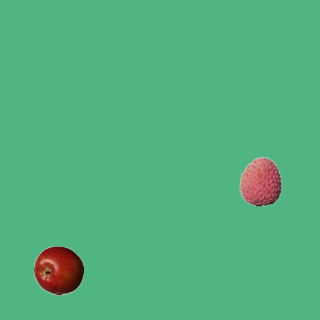Apple Braeburn: (33, 245, 83, 295)
Lychee: (235, 156, 285, 206)
